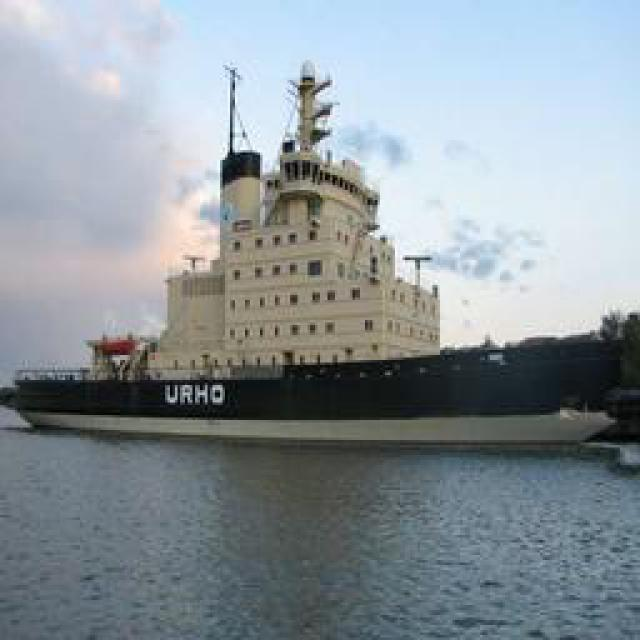Ship: (5, 59, 626, 451)
